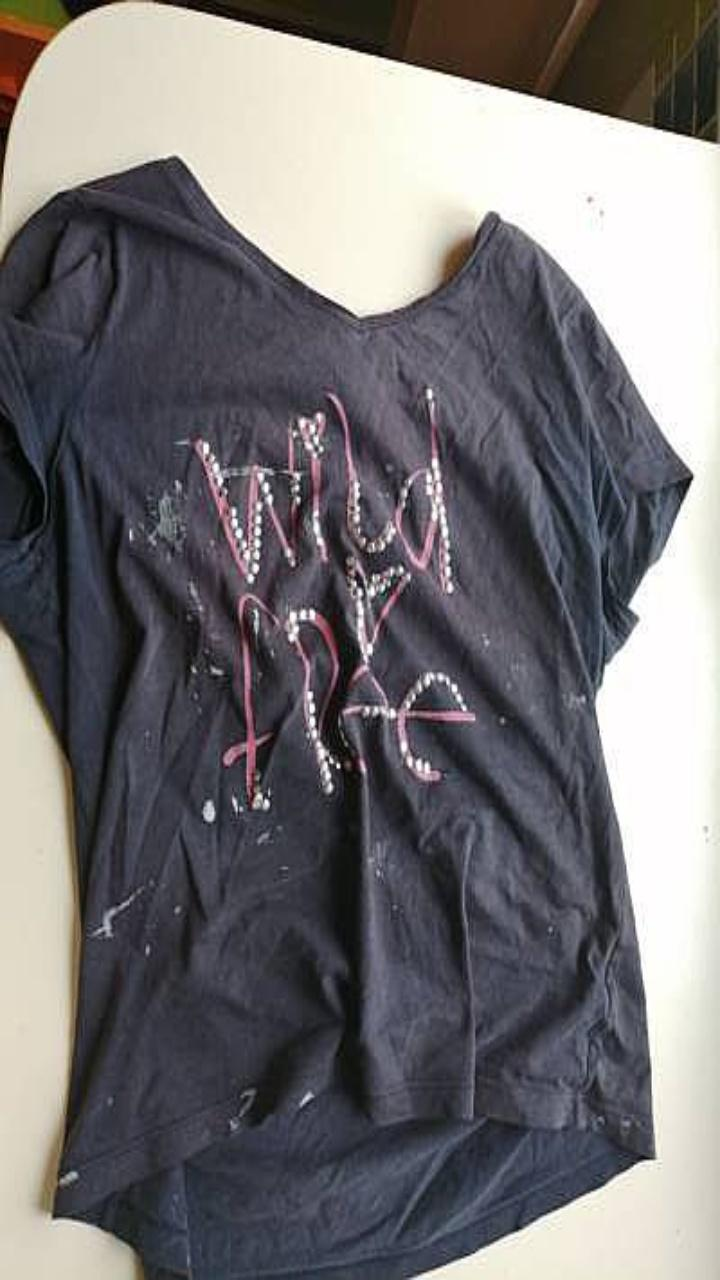T-Shirt: (0, 155, 692, 1279)
